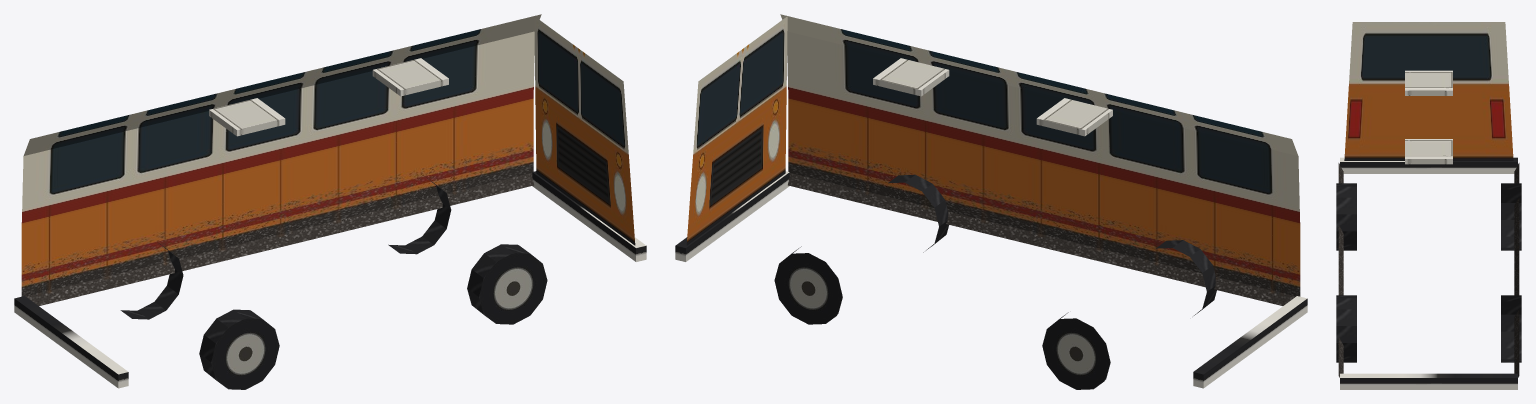
Rendered from paz3205.glb.
3 views of the same model, side by side, from view 1: azimuth 30°, elevation 25°; view 2: azimuth 150°, elevation 25°; view 3: azimuth 270°, elevation 25° (orthographic). The views are drawn at different scales.
Parts seen in each view (by area): view 1: PAZ_3205; view 2: PAZ_3205; view 3: PAZ_3205.
Part boxes in pixels (bbox=[...]): PAZ_3205: bbox=[14, 14, 646, 389]; PAZ_3205: bbox=[675, 14, 1307, 389]; PAZ_3205: bbox=[1336, 22, 1521, 389].
Size of the model in its own units: 7.1 by 2.86 by 2.52.
1 material, 1 textured.
